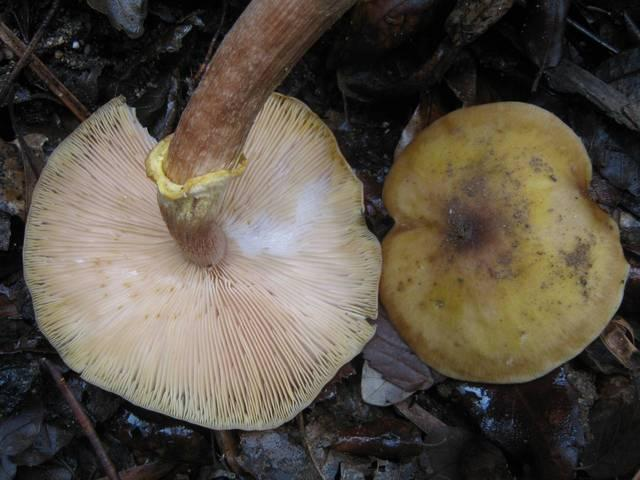Edible Mushroom: (20, 89, 383, 432), (378, 99, 630, 384)
